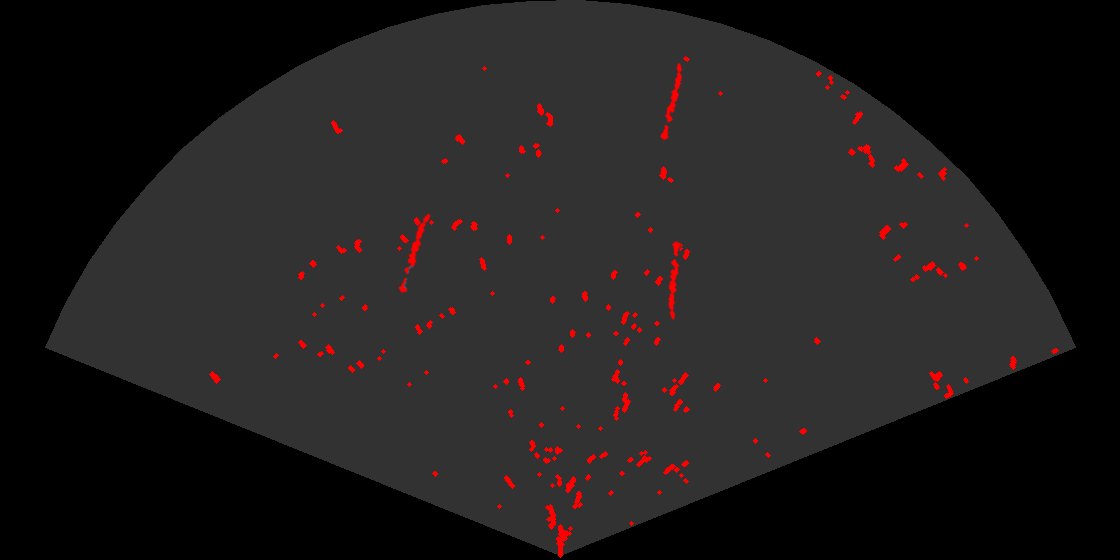chain: (397, 211, 432, 295), (659, 61, 684, 144), (666, 238, 682, 320)
